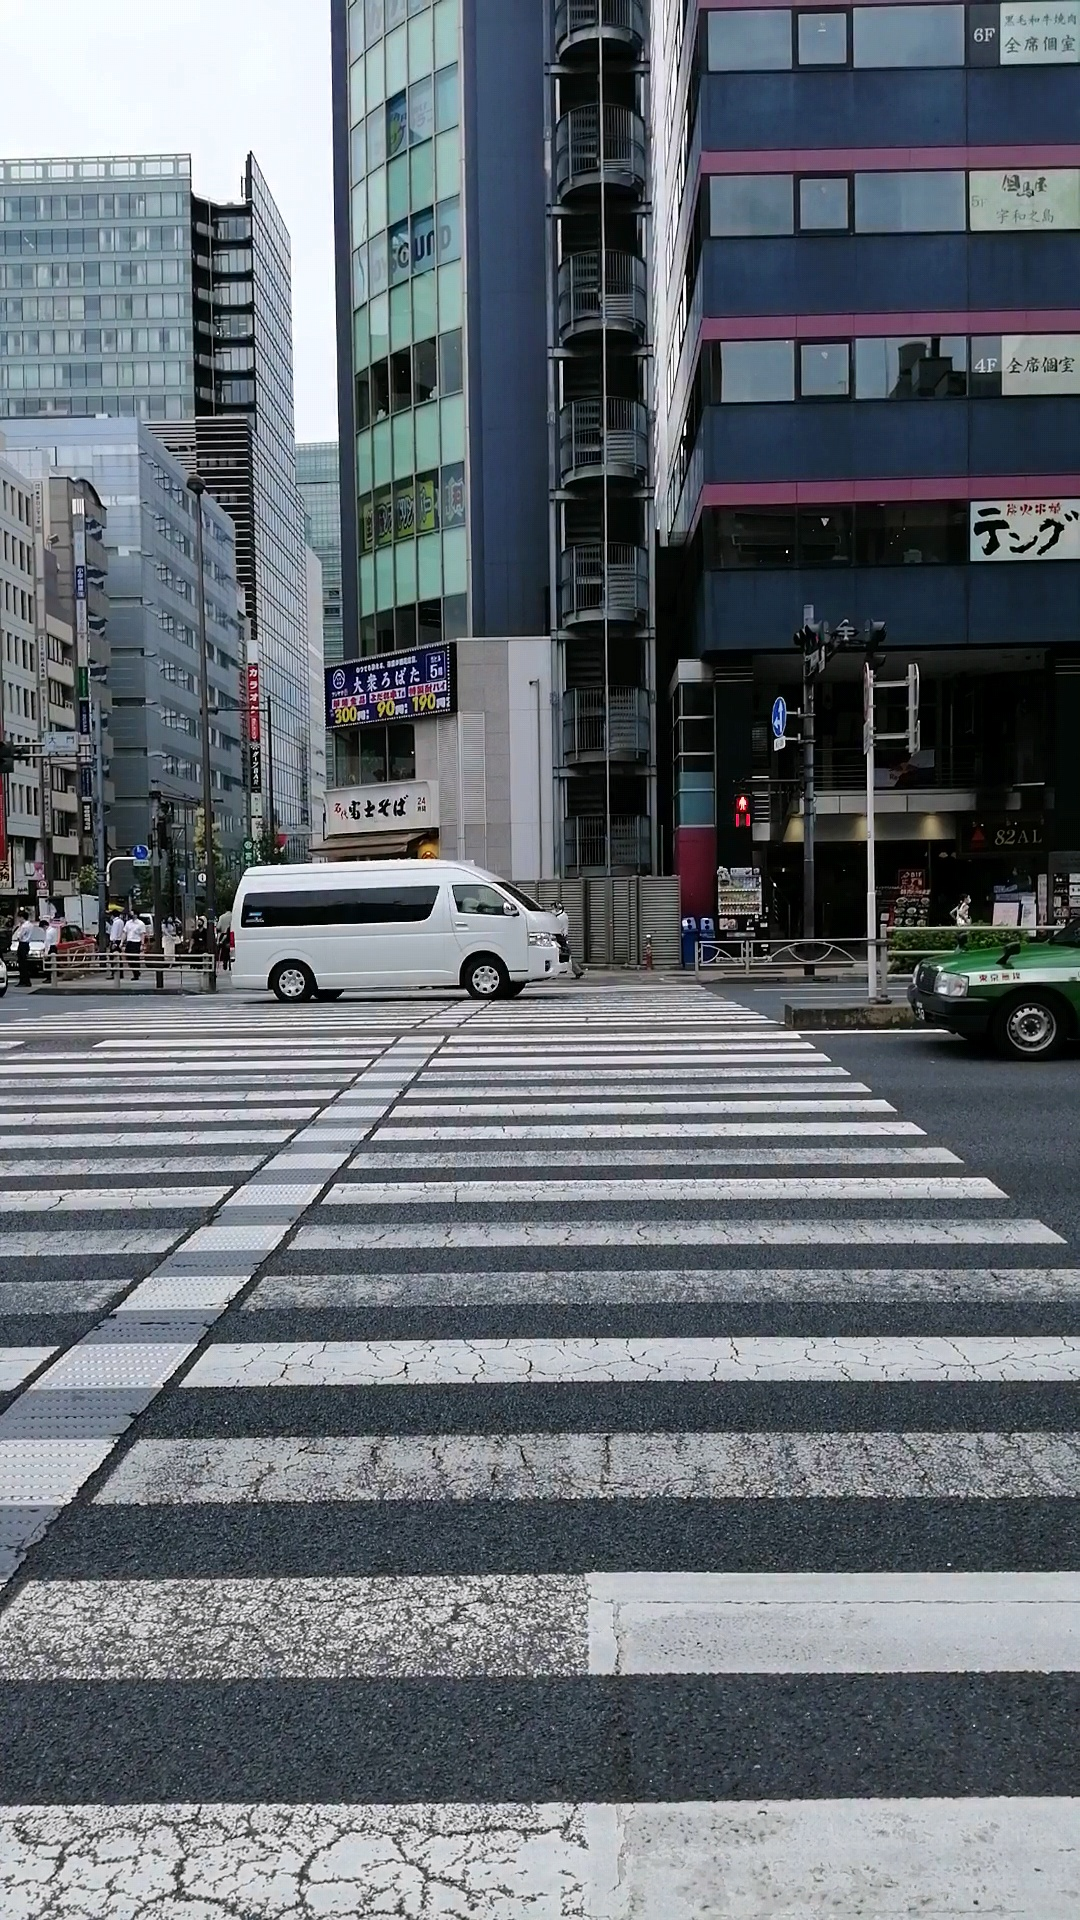red: (731, 791, 753, 833)
